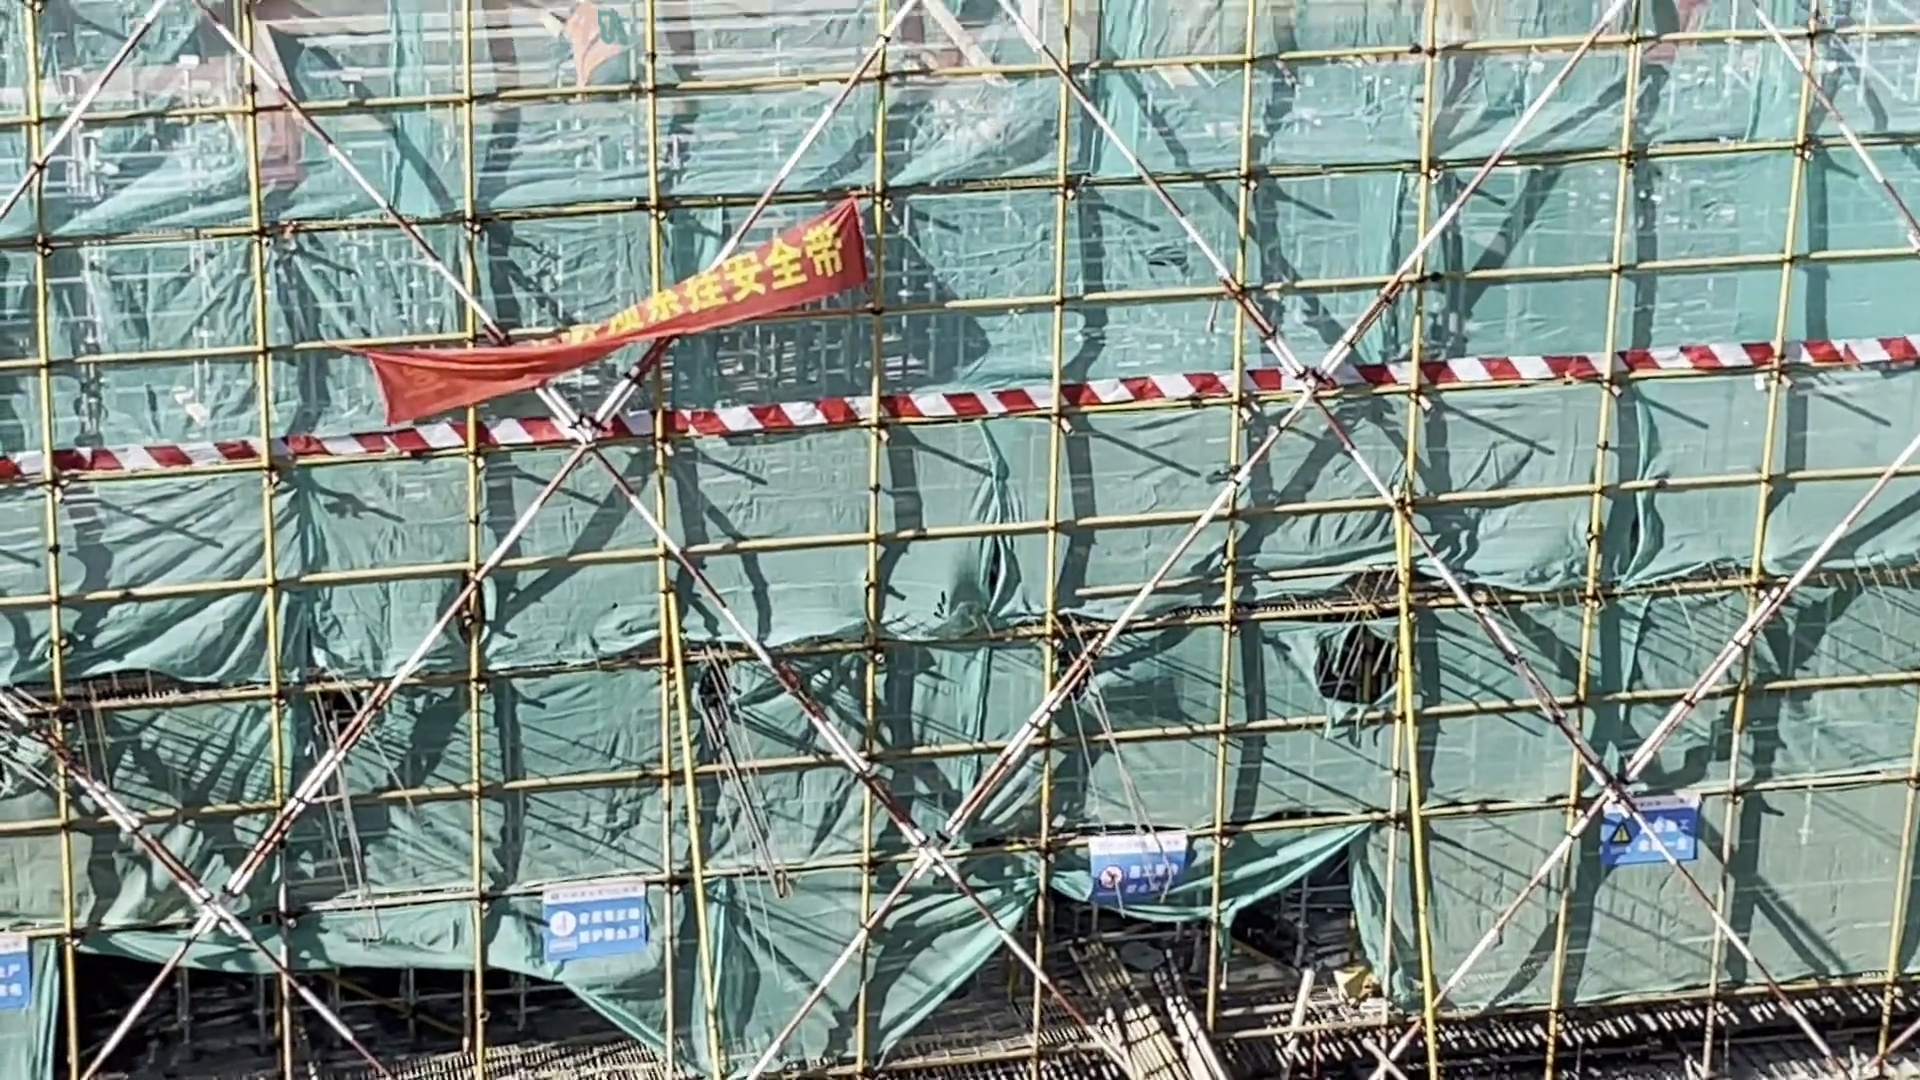person: (545, 1, 631, 111)
slogan: (382, 218, 850, 388), (1089, 839, 1190, 906), (543, 887, 641, 949), (1605, 799, 1695, 858), (1, 941, 31, 1006)
vest: (560, 7, 621, 75)
